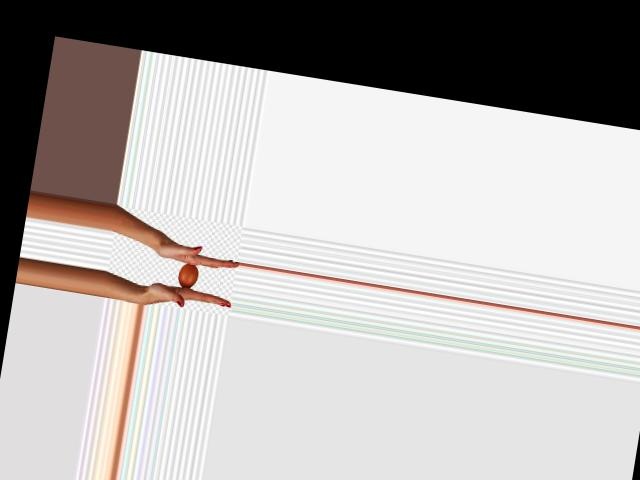egg: (176, 261, 199, 288)
